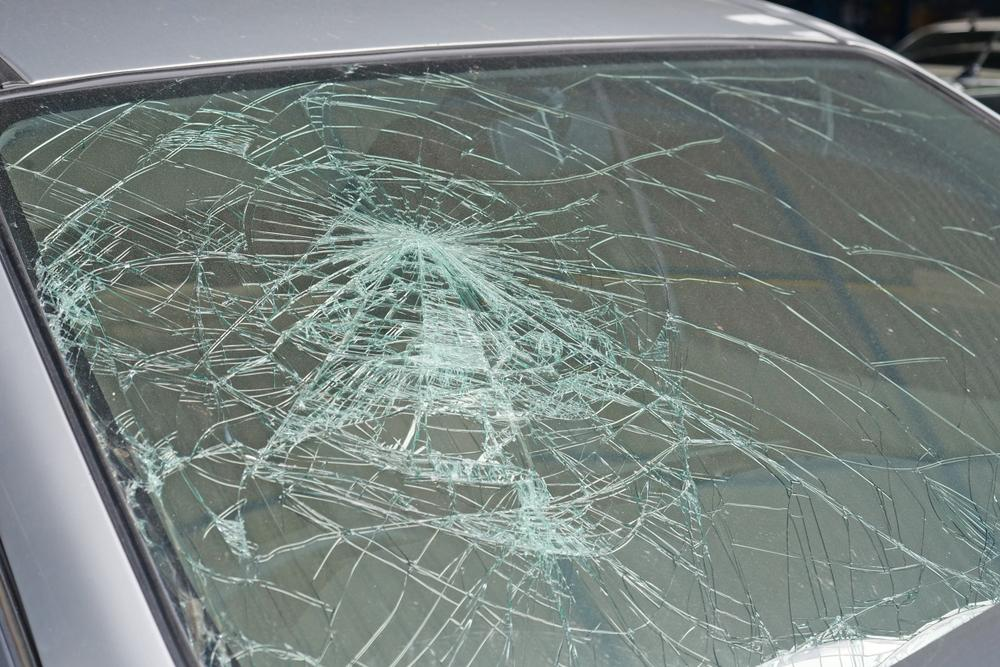glass shatter: (0, 49, 1000, 667)
